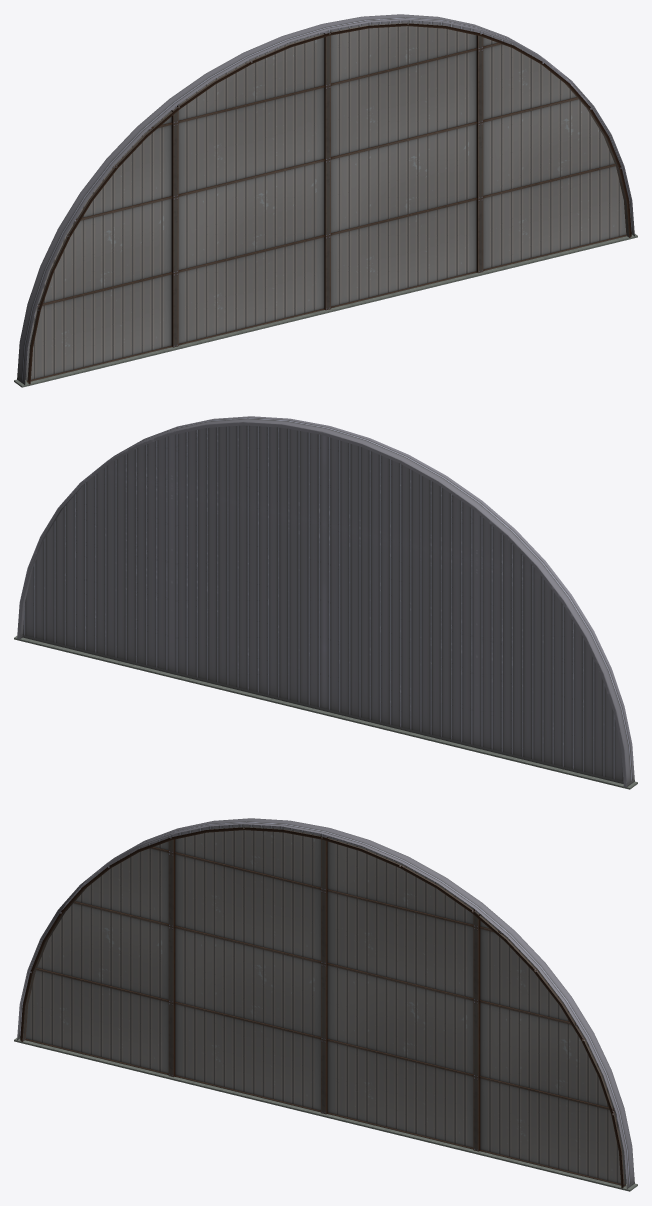
The model's file is Warehouse02_2.FBX.
3 renders of one model, top to bottom at view 1: azimuth 30°, elevation 25°; view 2: azimuth 150°, elevation 25°; view 3: azimuth 330°, elevation 25°, orthographic.
Parts seen in each view (by area): view 1: Warehouse02_2; view 2: Warehouse02_2; view 3: Warehouse02_2.
Boxes of the visible parts, x1=… form: Warehouse02_2: x1=14, y1=14, x2=637, y2=387; Warehouse02_2: x1=14, y1=416, x2=637, y2=789; Warehouse02_2: x1=14, y1=818, x2=637, y2=1191.
Size of what is drawn, in the model's own units: 20.2 by 8.86 by 0.4577.
